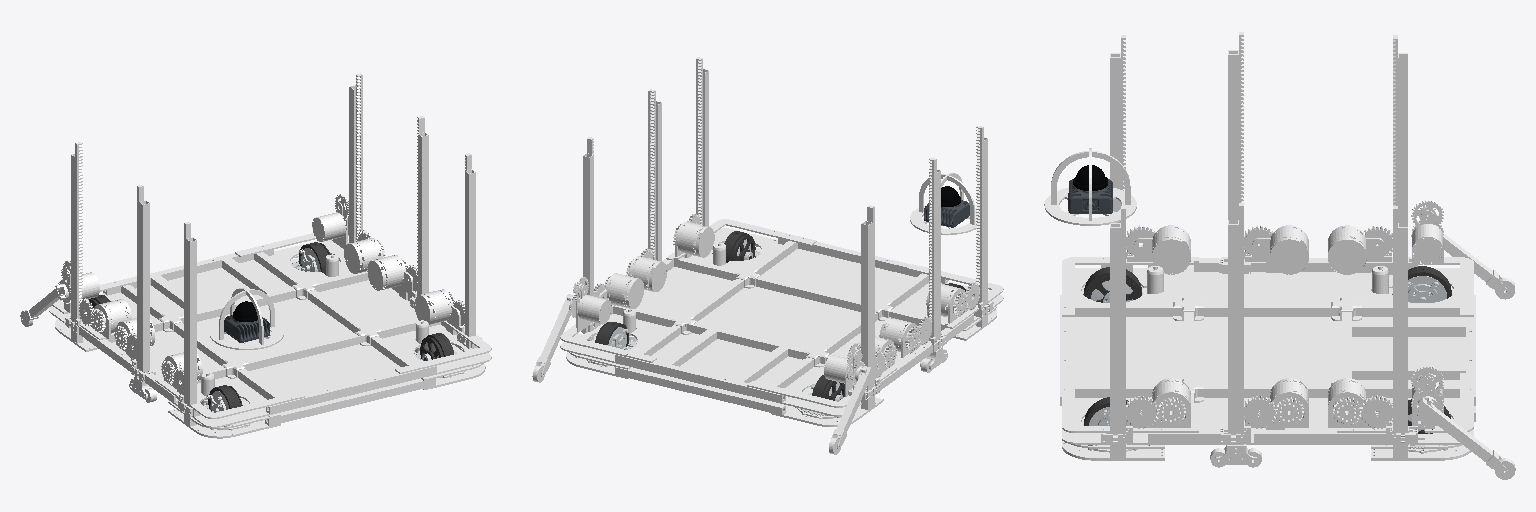
The robot description file, URDF, robot "br":
<?xml version='1.0' encoding='utf-8'?>
<robot name="br">
  <link name="base_link">
    <inertial>
      <origin xyz="-0.0104941874573322 0.00894120214595673 0.0153316280803506" rpy="0 0 0" />
      <mass value="4.12809976768818" />
      <inertia ixx="0.01469692224257" ixy="2.17307215639738E-08" ixz="2.36745227382626E-07" iyy="0.0127991164282382" iyz="-6.69960226830507E-06" izz="0.0270682217010851" />
    </inertial>
    <visual>
      <origin xyz="0 0 0" rpy="0 0 0" />
      <geometry>
        <mesh filename="meshes_sim/base_link.STL" />
      </geometry>
      <material name="">
        <color rgba="1 1 1 1" />
      </material>
    </visual>
    <collision>
      <origin xyz="0 0 0" rpy="0 0 0" />
      <geometry>
        <mesh filename="meshes_sim/base_link.STL" />
      </geometry>
    </collision>
  </link>
  <link name="link1_1">
    <visual>
      <origin xyz="0 0 0" rpy="0 0 0" />
      <geometry>
        <mesh filename="meshes_sim/front_support/left_arm.stl" />
      </geometry>
      <material name="">
        <color rgba="1 1 1 1" />
      </material>
    </visual>
    <collision>
      <origin xyz="0 0 0" rpy="0 0 0" />
      <geometry>
        <mesh filename="meshes_sim/front_support/left_arm.stl" />
      </geometry>
    </collision>
    <inertial>
      <origin xyz="-0.0494270619221777 0.00879554549824092 -0.0581642445318998" rpy="0 0 0" />
      <mass value="0.0280201406431382" />
      <inertia ixx="7.35551596090098e-06" ixy="1.39070020006676e-07" ixz="-4.78067616631314e-06" iyy="1.19789488190971e-05" iyz="1.63653432710955e-07" izz="5.79231042842305e-06" />
    </inertial>
  </link>
  <joint name="joint1_1" type="revolute">
    <origin xyz="0.317949999999999 0.232500007712663 0.0579999999999996" rpy="1.5707963267949 -1.5707963267949 0" />
    <parent link="base_link" />
    <child link="link1_1" />
    <axis xyz="0 -1 0" />
    <limit lower="0.0" upper="2.2752" effort="50" velocity="1.0" />
    <dynamics damping="0.1" />
  </joint>
  <link name="link2_1">
    <visual>
      <origin xyz="0 0 0" rpy="0 0 0" />
      <geometry>
        <mesh filename="meshes_sim/front_support/right_arm.stl" />
      </geometry>
      <material name="">
        <color rgba="1 1 1 1" />
      </material>
    </visual>
    <collision>
      <origin xyz="0 0 0" rpy="0 0 0" />
      <geometry>
        <mesh filename="meshes_sim/front_support/right_arm.stl" />
      </geometry>
    </collision>
    <inertial>
      <origin xyz="-0.0494270623891037 -0.00870248895505554 -0.0581642457923499" rpy="0 0 0" />
      <mass value="0.0280201406431391" />
      <inertia ixx="7.35114693622507e-06" ixy="-2.1914820607603e-07" ixz="-4.78067851562726e-06" iyy="1.19789538829429e-05" iyz="-2.57887015931239e-07" izz="5.78793876529406e-06" />
    </inertial>
  </link>
  <joint name="joint2_1" type="revolute">
    <origin xyz="-0.317750000000001 0.232500007712664 0.0579999999999999" rpy="1.5707963267949 -1.5707963267949 0" />
    <parent link="base_link" />
    <child link="link2_1" />
    <axis xyz="0 -1 0" />
    <limit lower="0.0" upper="2.2752" effort="50" velocity="1.0" />
    <dynamics damping="0.1" />
  </joint>
  <link name="link3_1_1">
    <inertial>
      <origin xyz="0.0116664782562558 -0.0155182624811523 -0.00706589542671332" rpy="0 0 0" />
      <mass value="0.788665603293014" />
      <inertia ixx="0.00398201976780938" ixy="4.73753204013429E-15" ixz="1.03000396120238E-06" iyy="0.00250779382397628" iyz="1.65426720135718E-05" izz="0.00483222236876998" />
    </inertial>
    <visual>
      <origin xyz="0 0 0" rpy="0 0 0" />
      <geometry>
        <mesh filename="meshes_sim/link3_1_1.STL" />
      </geometry>
      <material name="">
        <color rgba="1 1 1 1" />
      </material>
    </visual>
    <collision>
      <origin xyz="0 0 0" rpy="0 0 0" />
      <geometry>
        <mesh filename="meshes_sim/link3_1_1.STL" />
      </geometry>
    </collision>
  </link>
  <joint name="joint3_1_1" type="prismatic">
    <origin xyz="-4.99999999996614E-05 0.2075 0" rpy="1.5707963267949 -1.5707963267949 0" />
    <parent link="base_link" />
    <child link="link3_1_1" />
    <axis xyz="1 0 0" />
    <limit lower="-0.3" upper="0.0" effort="100" velocity="0.5" />
    <dynamics damping="0.1" />
  </joint>
  <link name="link3_2_1">
    <inertial>
      <origin xyz="0.00355520218783562 -0.000131364230598341 0.000119770378929962" rpy="0 0 0" />
      <mass value="0.179718254061765" />
      <inertia ixx="0.000136129578572082" ixy="1.06854111359834E-07" ixz="5.96716755129148E-09" iyy="0.000110077639257163" iyz="-2.45205766978258E-07" izz="8.25917017461938E-05" />
    </inertial>
    <visual>
      <origin xyz="0 0 0" rpy="0 0 0" />
      <geometry>
        <mesh filename="meshes_sim/link3_2_1.STL" />
      </geometry>
      <material name="">
        <color rgba="0.898039215686275 0.917647058823529 0.929411764705882 1" />
      </material>
    </visual>
    <collision>
      <origin xyz="0 0 0" rpy="0 0 0" />
      <geometry>
        <mesh filename="meshes_sim/link3_2_1.STL" />
      </geometry>
    </collision>
  </link>
  <joint name="joint3_2_1" type="revolute">
    <origin xyz="-0.0191749999999914 -0.225000000000011 -0.0175000000000054" rpy="0 0 0" />
    <parent link="link3_1_1" />
    <child link="link3_2_1" />
    <axis xyz="1 0 0" />
    <limit lower="-3.141592653589793" upper="3.141592653589793" effort="10" velocity="4.0" />
    <dynamics damping="0.1" />
  </joint>
  <link name="link3_2_2">
    <inertial>
      <origin xyz="-3.88933546497383E-05 -0.0210397291074122 1.59962135226621E-06" rpy="0 0 0" />
      <mass value="0.0889749821511124" />
      <inertia ixx="5.62779935765416E-05" ixy="2.20647474468985E-12" ixz="-2.50807988633272E-12" iyy="0.000104292438643698" iyz="-7.14739929142528E-10" izz="5.6143561475795E-05" />
    </inertial>
    <visual>
      <origin xyz="0 0 0" rpy="0 0 0" />
      <geometry>
        <mesh filename="meshes_sim/link3_2_2.STL" />
      </geometry>
      <material name="">
        <color rgba="0.298039215686275 0.298039215686275 0.298039215686275 1" />
      </material>
    </visual>
    <collision>
      <origin xyz="0 -0.0233 0" rpy="1.5707963267948966 0 0" />
      <geometry>
        <cylinder radius="0.0425" length="0.039" />
      </geometry>
    </collision>
  </link>
  <joint name="joint3_2_2" type="continuous">
    <origin xyz="0.00999999999998635 0.0138000000000051 0" rpy="0 0 0" />
    <parent link="link3_2_1" />
    <child link="link3_2_2" />
    <axis xyz="0 1 0" />
    <dynamics damping="0.001" friction="0.0" />
    <limit effort="5.0" velocity="8.0" />
  </joint>
  <link name="link3_3_1">
    <inertial>
      <origin xyz="0.00374615809944345 0.000368327372161303 0.000120821347111333" rpy="0 0 0" />
      <mass value="0.178152761460902" />
      <inertia ixx="0.000135350138918116" ixy="-9.82426890475265E-08" ixz="5.96816416335317E-09" iyy="0.00010927134452101" iyz="2.4520578632199E-07" izz="8.25518489816039E-05" />
    </inertial>
    <visual>
      <origin xyz="0 0 0" rpy="0 0 0" />
      <geometry>
        <mesh filename="meshes_sim/link3_3_1.STL" />
      </geometry>
      <material name="">
        <color rgba="0.898039215686275 0.917647058823529 0.929411764705882 1" />
      </material>
    </visual>
    <collision>
      <origin xyz="0 0 0" rpy="0 0 0" />
      <geometry>
        <mesh filename="meshes_sim/link3_3_1.STL" />
      </geometry>
    </collision>
  </link>
  <joint name="joint3_3_1" type="revolute">
    <origin xyz="-0.0191749999999912 0.224700000000008 -0.017500000000005" rpy="0 0 0" />
    <parent link="link3_1_1" />
    <child link="link3_3_1" />
    <axis xyz="-1 0 0" />
    <limit lower="-3.141592653589793" upper="3.141592653589793" effort="10" velocity="4.0" />
    <dynamics damping="0.1" />
  </joint>
  <link name="link3_3_2">
    <inertial>
      <origin xyz="-3.88893877905638E-05 0.0210397448028213 1.57981095139093E-06" rpy="0 0 0" />
      <mass value="0.0889749941144419" />
      <inertia ixx="5.62779943455652E-05" ixy="-6.14340891533126E-13" ixz="-7.23584333264631E-12" iyy="0.000104292450540725" iyz="7.15185421053288E-10" izz="5.61435726718154E-05" />
    </inertial>
    <visual>
      <origin xyz="0 0 0" rpy="0 0 0" />
      <geometry>
        <mesh filename="meshes_sim/link3_3_2.STL" />
      </geometry>
      <material name="">
        <color rgba="0.298039215686275 0.298039215686275 0.298039215686275 1" />
      </material>
    </visual>
    <collision>
      <origin xyz="0 0.0233 0" rpy="1.5707963267948966 0 0" />
      <geometry>
        <cylinder radius="0.0425" length="0.039" />
      </geometry>
    </collision>
  </link>
  <joint name="joint3_3_2" type="continuous">
    <origin xyz="0.00999999999998591 -0.0138000000000053 0" rpy="0 0 0" />
    <parent link="link3_3_1" />
    <child link="link3_3_2" />
    <axis xyz="0 -1 0" />
    <dynamics damping="0.001" friction="0.0" />
    <limit effort="5.0" velocity="8.0" />
  </joint>
  <link name="link4_1">
    <inertial>
      <origin xyz="0.000100000000001321 -0.0454618323334954 0.084705968903574" rpy="0 0 0" />
      <mass value="0.238767567799155" />
      <inertia ixx="0.00169017811257077" ixy="-1.95663120028074E-21" ixz="-1.06225572173344E-19" iyy="0.00167653238604338" iyz="7.9589481403557E-07" izz="2.18578155398606E-05" />
    </inertial>
    <visual>
      <origin xyz="0 0 0" rpy="0 0 0" />
      <geometry>
        <mesh filename="meshes_sim/link4_1.STL" />
      </geometry>
      <material name="">
        <color rgba="1 1 1 1" />
      </material>
    </visual>
    <collision>
      <origin xyz="0 0 0" rpy="0 0 0" />
      <geometry>
        <mesh filename="meshes_sim/link4_1.STL" />
      </geometry>
    </collision>
  </link>
  <joint name="joint4_1" type="prismatic">
    <origin xyz="0 0 0" rpy="0 0 0" />
    <parent link="base_link" />
    <child link="link4_1" />
    <axis xyz="0 0 1" />
    <limit lower="-0.316" upper="0.0" effort="100" velocity="0.5" />
    <dynamics damping="0.1" />
  </joint>
  <link name="link5_1_1">
    <inertial>
      <origin xyz="0.0103450524834708 9.04640123422507E-05 0.0112172871692453" rpy="0 0 0" />
      <mass value="0.844102629358632" />
      <inertia ixx="0.0042855694311282" ixy="-4.73798350684287E-15" ixz="-1.03000396119949E-06" iyy="0.00266028015640331" iyz="3.15596500520637E-16" izz="0.00498336887358115" />
    </inertial>
    <visual>
      <origin xyz="0 0 0" rpy="0 0 0" />
      <geometry>
        <mesh filename="meshes_sim/link5_1_1.STL" />
      </geometry>
      <material name="">
        <color rgba="1 1 1 1" />
      </material>
    </visual>
    <collision>
      <origin xyz="0 0 0" rpy="0 0 0" />
      <geometry>
        <mesh filename="meshes_sim/link5_1_1.STL" />
      </geometry>
    </collision>
  </link>
  <joint name="joint5_1_1" type="prismatic">
    <origin xyz="0.000150000000000206 -0.207499999999999 0" rpy="1.5707963267949 -1.5707963267949 0" />
    <parent link="base_link" />
    <child link="link5_1_1" />
    <axis xyz="1 0 0" />
    <limit lower="-0.3" upper="0.0" effort="100" velocity="0.5" />
    <dynamics damping="0.1" />
  </joint>
  <link name="link5_2_1">
    <inertial>
      <origin xyz="0.00372877931610188 0.000368327669866941 5.96139246356042E-06" rpy="0 0 0" />
      <mass value="0.1781527614609" />
      <inertia ixx="0.000135289723728495" ixy="-9.90307432380291E-08" ixz="-1.91084686720475E-07" iyy="0.000109271344521015" iyz="2.40028430503553E-07" izz="8.26122641712176E-05" />
    </inertial>
    <visual>
      <origin xyz="0 0 0" rpy="0 0 0" />
      <geometry>
        <mesh filename="meshes_sim/link5_2_1.STL" />
      </geometry>
      <material name="">
        <color rgba="0.898039215686275 0.917647058823529 0.929411764705882 1" />
      </material>
    </visual>
    <collision>
      <origin xyz="0 0 0" rpy="0 0 0" />
      <geometry>
        <mesh filename="meshes_sim/link5_2_1.STL" />
      </geometry>
    </collision>
  </link>
  <joint name="joint5_2_1" type="revolute">
    <origin xyz="-0.0191749999999844 -0.224799999999998 0.0174999999999981" rpy="0 0 0" />
    <parent link="link5_1_1" />
    <child link="link5_2_1" />
    <axis xyz="-1 0 0" />
    <limit lower="-3.141592653589793" upper="3.141592653589793" effort="10" velocity="4.0" />
    <dynamics damping="0.1" />
  </joint>
  <link name="link5_2_2">
    <inertial>
      <origin xyz="-3.84179103837257E-05 0.0210397416085224 1.52112439011365E-06" rpy="0 0 0" />
      <mass value="0.0889749941227164" />
      <inertia ixx="5.62784525346375E-05" ixy="2.11255809061725E-10" ixz="1.48018304857176E-09" iyy="0.000104292450558982" iyz="6.83292265116555E-10" izz="5.61431145010192E-05" />
    </inertial>
    <visual>
      <origin xyz="0 0 0" rpy="0 0 0" />
      <geometry>
        <mesh filename="meshes_sim/link5_2_2.STL" />
      </geometry>
      <material name="">
        <color rgba="0.298039215686275 0.298039215686275 0.298039215686275 1" />
      </material>
    </visual>
    <collision>
      <origin xyz="0 0.0233 0" rpy="1.5707963267948966 0 0" />
      <geometry>
        <cylinder radius="0.0425" length="0.039" />
      </geometry>
    </collision>
  </link>
  <joint name="joint5_2_2" type="continuous">
    <origin xyz="0.0099999999999838 -0.0138000000000057 0" rpy="0 0 0" />
    <parent link="link5_2_1" />
    <child link="link5_2_2" />
    <axis xyz="0 -1 0" />
    <dynamics damping="0.001" friction="0.0" />
    <limit effort="5.0" velocity="8.0" />
  </joint>
  <link name="link5_3_1">
    <inertial>
      <origin xyz="0.00380078098908176 -0.000943737466362005 5.66962171832941E-06" rpy="0 0 0" />
      <mass value="0.187337128560931" />
      <inertia ixx="0.00013645644250061" ixy="1.07642165550892E-07" ixz="-1.91085683332366E-07" iyy="0.000110712459188732" iyz="-2.40028411152961E-07" izz="8.30393960539557E-05" />
    </inertial>
    <visual>
      <origin xyz="0 0 0" rpy="0 0 0" />
      <geometry>
        <mesh filename="meshes_sim/link5_3_1.STL" />
      </geometry>
      <material name="">
        <color rgba="0.898039215686275 0.917647058823529 0.929411764705882 1" />
      </material>
    </visual>
    <collision>
      <origin xyz="0 0 0" rpy="0 0 0" />
      <geometry>
        <mesh filename="meshes_sim/link5_3_1.STL" />
      </geometry>
    </collision>
  </link>
  <joint name="joint5_3_1" type="revolute">
    <origin xyz="-0.0191749999999905 0.224899999999996 0.0174999999999982" rpy="0 0 0" />
    <parent link="link5_1_1" />
    <child link="link5_3_1" />
    <axis xyz="1 0 0" />
    <limit lower="-3.141592653589793" upper="3.141592653589793" effort="10" velocity="4.0" />
    <dynamics damping="0.1" />
  </joint>
  <link name="link5_3_2">
    <inertial>
      <origin xyz="-3.84218806924741E-05 -0.0210397440864145 1.51836401951488E-06" rpy="0 0 0" />
      <mass value="0.0889749821412798" />
      <inertia ixx="5.62784517687033E-05" ixy="-2.09651861652698E-10" ixz="1.48492457954077E-09" iyy="0.000104292438652983" iyz="-6.82848337849084E-10" izz="5.61431032928303E-05" />
    </inertial>
    <visual>
      <origin xyz="0 0 0" rpy="0 0 0" />
      <geometry>
        <mesh filename="meshes_sim/link5_3_2.STL" />
      </geometry>
      <material name="">
        <color rgba="0.298039215686275 0.298039215686275 0.298039215686275 1" />
      </material>
    </visual>
    <collision>
      <origin xyz="0 -0.0233 0" rpy="1.5707963267948966 0 0" />
      <geometry>
        <cylinder radius="0.0425" length="0.039" />
      </geometry>
    </collision>
  </link>
  <joint name="joint5_3_2" type="continuous">
    <origin xyz="0.00999999999999046 0.0138000000000037 0" rpy="0 0 0" />
    <parent link="link5_3_1" />
    <child link="link5_3_2" />
    <axis xyz="0 1 0" />
    <dynamics damping="0.001" friction="0.0" />
    <limit effort="5.0" velocity="8.0" />
  </joint>
  <link name="mid360_link">
    <inertial>
      <origin xyz="0 0 0" rpy="0 0 0" />
      <mass value="0.265" />
      <inertia ixx="0.0002" ixy="0" ixz="0" iyy="0.0002" iyz="0" izz="0.0002" />
    </inertial>
    <visual>
      <origin xyz="0 0 0" rpy="1.57079632679 0 0" />
      <geometry>
        <mesh filename="meshes_sim/mid360_housing.stl" scale="0.001 0.001 0.001" />
      </geometry>
      <material name="mid360_housing_mat">
        <color rgba="0.32 0.35 0.38 1" />
      </material>
    </visual>
    <visual>
      <origin xyz="0 0 0" rpy="1.57079632679 0 0" />
      <geometry>
        <mesh filename="meshes_sim/mid360_dome.stl" scale="0.001 0.001 0.001" />
      </geometry>
      <material name="mid360_dome_mat">
        <color rgba="0.055 0.06 0.065 1" />
      </material>
    </visual>
    <collision>
      <origin xyz="0 0 0" rpy="1.57079632679 0 0" />
      <geometry>
        <mesh filename="meshes_sim/mid360_official.stl" scale="0.001 0.001 0.001" />
      </geometry>
    </collision>
  </link>
  <joint name="mid360_joint" type="fixed">
    <origin xyz="-0.19755 -0.25764 0.17592" rpy="0 0 0" />
    <parent link="base_link" />
    <child link="mid360_link" />
  </joint>
  <gazebo reference="link3_2_2">
    <mu1>1.0</mu1>
    <mu2>1.0</mu2>
  </gazebo>
  <gazebo reference="link3_3_2">
    <mu1>1.0</mu1>
    <mu2>1.0</mu2>
  </gazebo>
  <gazebo reference="link5_2_2">
    <mu1>1.0</mu1>
    <mu2>1.0</mu2>
  </gazebo>
  <gazebo reference="link5_3_2">
    <mu1>1.0</mu1>
    <mu2>1.0</mu2>
  </gazebo>
  <link name="front_support_left_wheel">
    <inertial>
      <origin xyz="0 0 0" rpy="0 0 0" />
      <mass value="0.00311334896034869" />
      <inertia ixx="2.08075465315429e-07" ixy="0" ixz="0" iyy="3.64261786027615e-07" iyz="0" izz="2.08075465315429e-07" />
    </inertial>
    <visual>
      <origin xyz="0 0 0" rpy="0 0 0" />
      <geometry>
        <mesh filename="meshes_sim/front_support/left_wheel.stl" />
      </geometry>
      <material name="cad_wheel">
        <color rgba="1 1 1 1" />
      </material>
    </visual>
    <collision>
      <origin xyz="0 0 0" rpy="1.5707963267948966 0 0" />
      <geometry>
        <cylinder radius="0.014999999794424264" length="0.009999999543651938" />
      </geometry>
    </collision>
  </link>
  <joint name="front_support_left_wheel_joint" type="continuous">
    <parent link="link1_1" />
    <child link="front_support_left_wheel" />
    <origin xyz="-0.0957517298733054 0.00783916853833944 -0.112677728400114" rpy="0 0 0" />
    <axis xyz="0 1 0" />
    <dynamics damping="0.000001" friction="0.0" />
  </joint>
  <gazebo reference="front_support_left_wheel">
    <mu1>1.0</mu1>
    <mu2>1.0</mu2>
  </gazebo>
  <link name="front_support_right_wheel">
    <inertial>
      <origin xyz="0 0 0" rpy="0 0 0" />
      <mass value="0.00311334896034879" />
      <inertia ixx="2.08075463574203e-07" ixy="0" ixz="0" iyy="3.64261784961438e-07" iyz="0" izz="2.08075463574203e-07" />
    </inertial>
    <visual>
      <origin xyz="0 0 0" rpy="0 0 0" />
      <geometry>
        <mesh filename="meshes_sim/front_support/right_wheel.stl" />
      </geometry>
      <material name="cad_wheel">
        <color rgba="1 1 1 1" />
      </material>
    </visual>
    <collision>
      <origin xyz="0 0 0" rpy="1.5707963267948966 0 0" />
      <geometry>
        <cylinder radius="0.014999999904106552" length="0.009999999310821295" />
      </geometry>
    </collision>
  </link>
  <joint name="front_support_right_wheel_joint" type="continuous">
    <parent link="link2_1" />
    <child link="front_support_right_wheel" />
    <origin xyz="-0.0957517256709684 -0.00712918792851269 -0.112677717056054" rpy="0 0 0" />
    <axis xyz="0 1 0" />
    <dynamics damping="0.000001" friction="0.0" />
  </joint>
  <gazebo reference="front_support_right_wheel">
    <mu1>1.0</mu1>
    <mu2>1.0</mu2>
  </gazebo>
</robot>

--- What the picture shows (computed from the rendered views, not written in the file) ---
The picture shows the robot from 3 angles, left to right: view 1: azimuth 30°, elevation 25°; view 2: azimuth 150°, elevation 25°; view 3: azimuth 270°, elevation 25°; orthographic projection.
Model br with 17 links and 16 joints (6 revolute, 6 continuous, 3 prismatic, 1 fixed), rooted at base_link, posed all joints at 0.
Links seen in each view (by area): view 1: base_link, link5_1_1, link3_1_1, link4_1, mid360_link, link2_1, link5_2_2; view 2: base_link, link3_1_1, link5_1_1, link4_1, link2_1, mid360_link, link1_1, link5_2_2; view 3: base_link, link3_1_1, link5_1_1, link4_1, mid360_link, link1_1, link3_3_1, link2_1, link5_3_2.
Link boxes in pixels (x1=…): base_link: x1=49, y1=194, x2=491, y2=427; link5_1_1: x1=168, y1=153, x2=485, y2=438; link3_1_1: x1=55, y1=73, x2=362, y2=351; link4_1: x1=129, y1=116, x2=428, y2=402; mid360_link: x1=224, y1=301, x2=269, y2=342; link2_1: x1=22, y1=284, x2=68, y2=321; link5_2_2: x1=420, y1=333, x2=453, y2=360; base_link: x1=560, y1=173, x2=1003, y2=416; link3_1_1: x1=566, y1=137, x2=883, y2=426; link5_1_1: x1=696, y1=57, x2=996, y2=340; link4_1: x1=648, y1=89, x2=947, y2=372; link2_1: x1=831, y1=366, x2=873, y2=448; mid360_link: x1=924, y1=186, x2=969, y2=227; link1_1: x1=535, y1=294, x2=574, y2=376; link5_2_2: x1=724, y1=231, x2=755, y2=262; base_link: x1=1044, y1=148, x2=1475, y2=444; link3_1_1: x1=1371, y1=35, x2=1475, y2=460; link5_1_1: x1=1062, y1=35, x2=1164, y2=460; link4_1: x1=1210, y1=32, x2=1261, y2=467; mid360_link: x1=1068, y1=165, x2=1112, y2=213; link1_1: x1=1417, y1=396, x2=1507, y2=473; link3_3_1: x1=1392, y1=276, x2=1452, y2=302; link2_1: x1=1419, y1=221, x2=1507, y2=293; link5_3_2: x1=1084, y1=267, x2=1141, y2=302.
Size in the robot's own frame: 0.6397 by 0.6851 by 0.4319 metres.
18 mesh visuals loaded from 18 distinct referenced files (18 binary STL).
